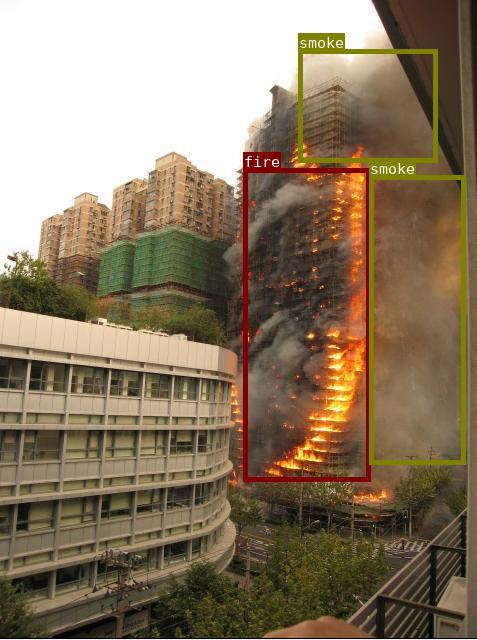fire: (242, 168, 370, 481)
smoke: (368, 174, 464, 464), (298, 48, 437, 161)
